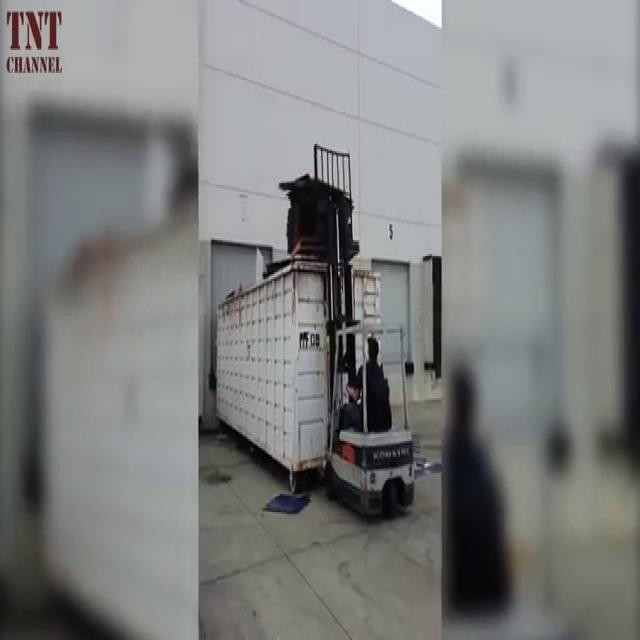forklift: (322, 304, 422, 525)
